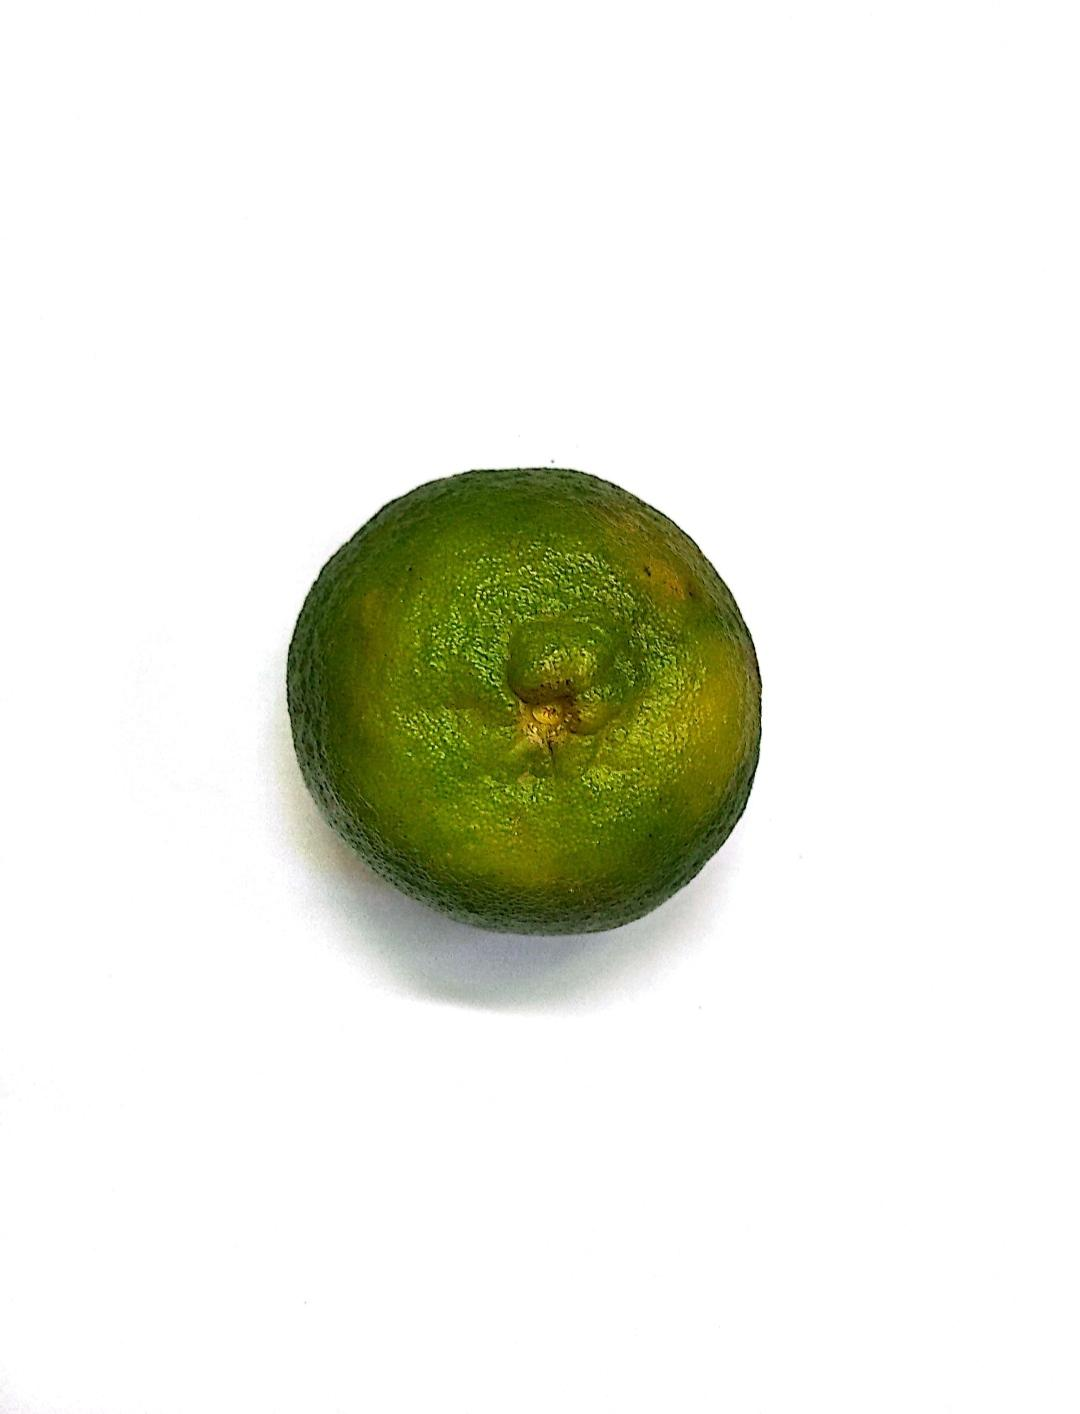Unripe: (287, 476, 757, 933)
